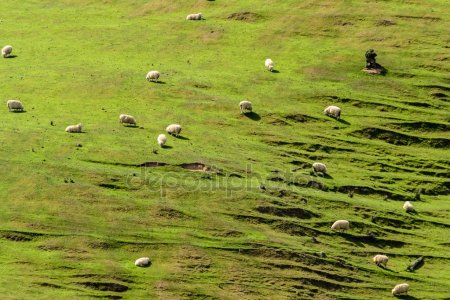sheep: (331, 219, 349, 235), (165, 123, 184, 137), (391, 282, 410, 296), (6, 99, 26, 112), (373, 253, 390, 267), (324, 105, 342, 118), (118, 114, 137, 126), (312, 162, 328, 176), (238, 100, 253, 114), (64, 123, 83, 134), (1, 44, 13, 59), (135, 256, 150, 267), (146, 70, 160, 81), (264, 58, 275, 72), (186, 12, 203, 21), (156, 133, 166, 148), (403, 200, 415, 212)
